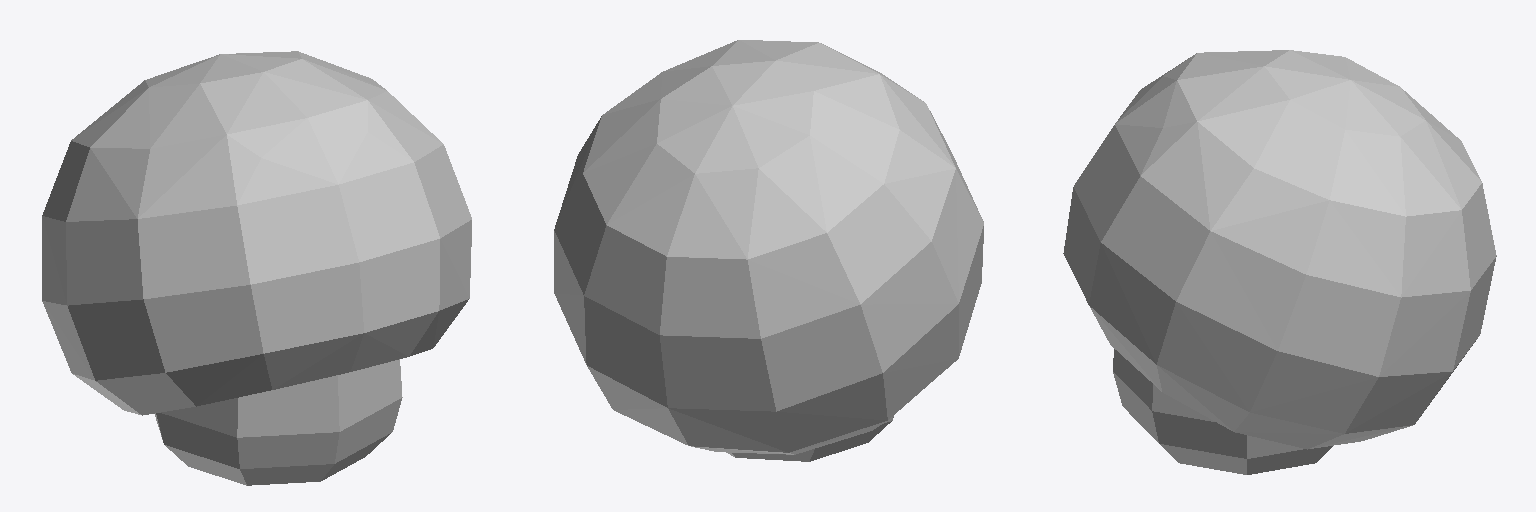
The model's file is kinoko.obj.
The picture shows the model from 3 angles: view 1: azimuth 30°, elevation 25°; view 2: azimuth 150°, elevation 25°; view 3: azimuth 270°, elevation 25°; orthographic projection.
Visible parts, largest first — view 1: vsn_mesh_0_kinoko_mesh_0_kinoko; view 2: vsn_mesh_0_kinoko_mesh_0_kinoko; view 3: vsn_mesh_0_kinoko_mesh_0_kinoko.
Boxes of the visible parts, x1,y1,x2,y2 form: vsn_mesh_0_kinoko_mesh_0_kinoko: [42, 51, 471, 485]; vsn_mesh_0_kinoko_mesh_0_kinoko: [554, 40, 983, 461]; vsn_mesh_0_kinoko_mesh_0_kinoko: [1063, 50, 1496, 474].
Bounding box in the file's own units: 15.75 × 15.04 × 15.56.